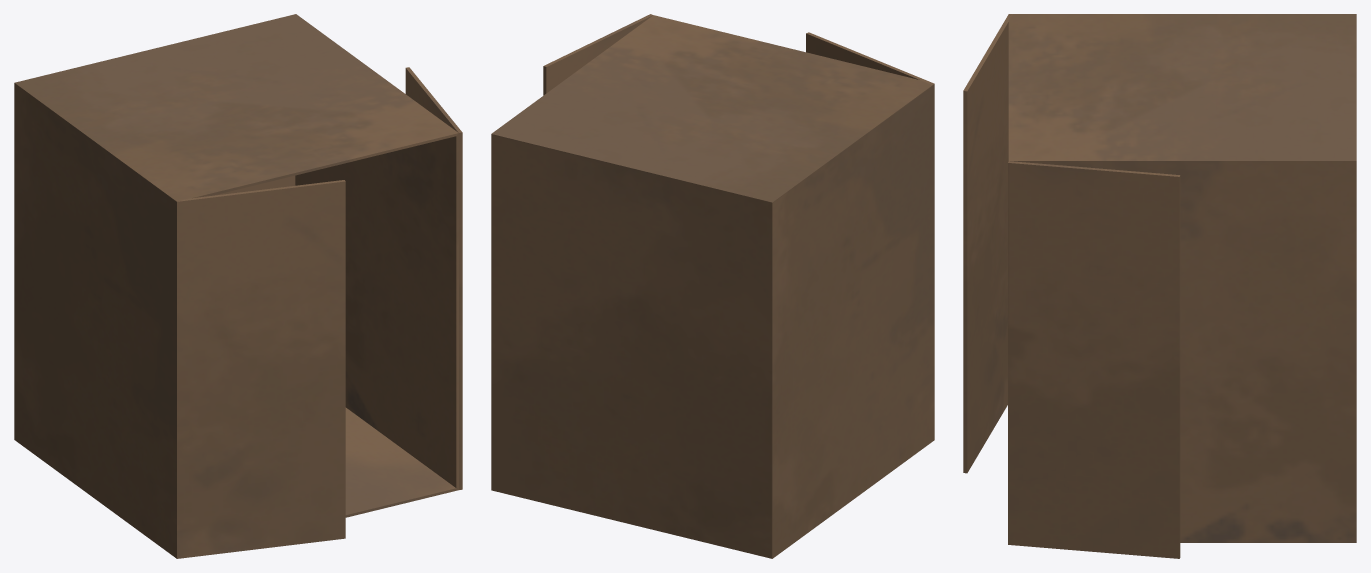
The model's file is CardboardBox.fbx.
The picture shows the model from 3 angles, left to right: view 1: azimuth 30°, elevation 25°; view 2: azimuth 150°, elevation 25°; view 3: azimuth 270°, elevation 25°; orthographic projection. The views are drawn at different scales.
Visible parts, largest first — view 1: CardboardBoxHide; view 2: CardboardBoxHide; view 3: CardboardBoxHide.
Part boxes in pixels (bbox=[...]): CardboardBoxHide: bbox=[14, 14, 462, 558]; CardboardBoxHide: bbox=[491, 14, 934, 558]; CardboardBoxHide: bbox=[963, 14, 1356, 558].
Bounding box in the file's own units: 180 × 197 × 184.
